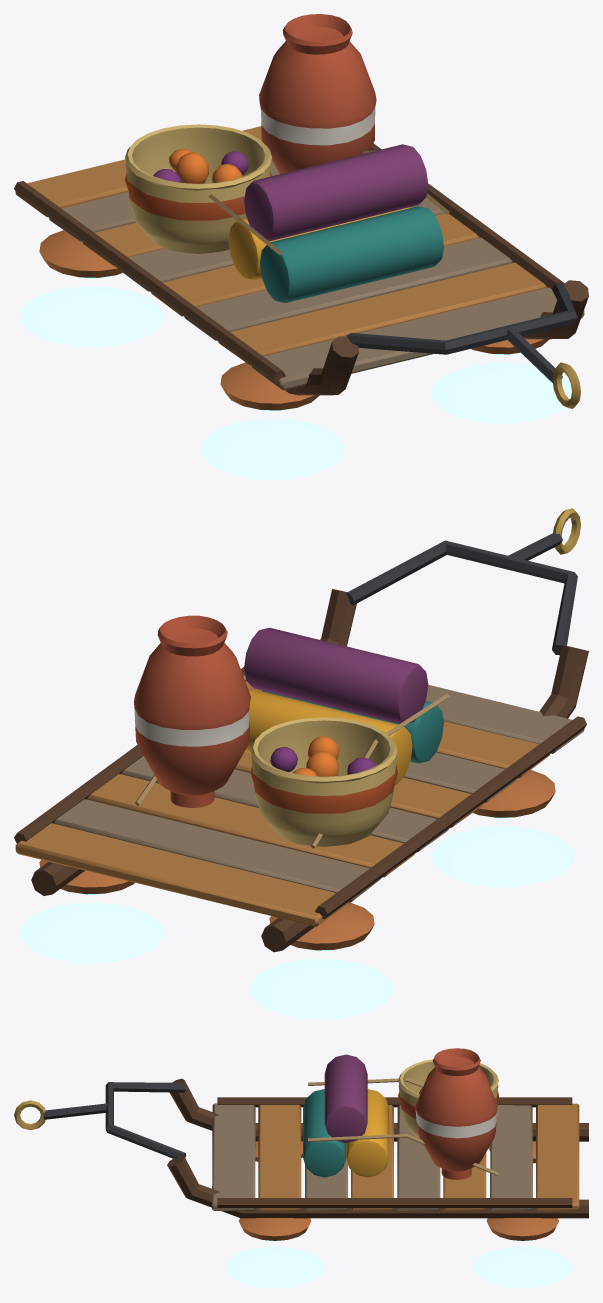
The model's file is deco_hover_sled.fbx.
3 views of the same model, one above another, from view 1: azimuth 30°, elevation 25°; view 2: azimuth 150°, elevation 25°; view 3: azimuth 270°, elevation 25° (orthographic). The views are drawn at different scales.
Parts seen in each view (by area): view 1: HoverSled_Load, HoverSled_Deck, HoverSled_HoverGlow, HoverSled_Emitters, HoverSled_TowBar, HoverSled_Runners; view 2: HoverSled_Load, HoverSled_Deck, HoverSled_HoverGlow, HoverSled_TowBar, HoverSled_Emitters, HoverSled_Runners; view 3: HoverSled_Deck, HoverSled_Load, HoverSled_HoverGlow, HoverSled_Runners, HoverSled_TowBar, HoverSled_Emitters.
Boxes of the visible parts, x1,y1,x2,y2 form: HoverSled_Load: (125, 14, 449, 302); HoverSled_Deck: (14, 126, 586, 390); HoverSled_HoverGlow: (20, 286, 571, 479); HoverSled_Emitters: (39, 230, 549, 410); HoverSled_TowBar: (346, 282, 580, 408); HoverSled_Runners: (48, 217, 588, 395); HoverSled_Load: (134, 615, 449, 848); HoverSled_Deck: (14, 667, 586, 926); HoverSled_HoverGlow: (20, 826, 574, 1019); HoverSled_TowBar: (346, 508, 580, 655); HoverSled_Emitters: (39, 770, 555, 950); HoverSled_Runners: (31, 589, 588, 952); HoverSled_Deck: (212, 1097, 579, 1210); HoverSled_Load: (303, 1048, 498, 1179); HoverSled_HoverGlow: (225, 1170, 572, 1288); HoverSled_Runners: (167, 1078, 588, 1218); HoverSled_TowBar: (14, 1082, 186, 1158); HoverSled_Emitters: (239, 1141, 558, 1241).
Bounding box in the file's own units: 170 × 130 × 348.
